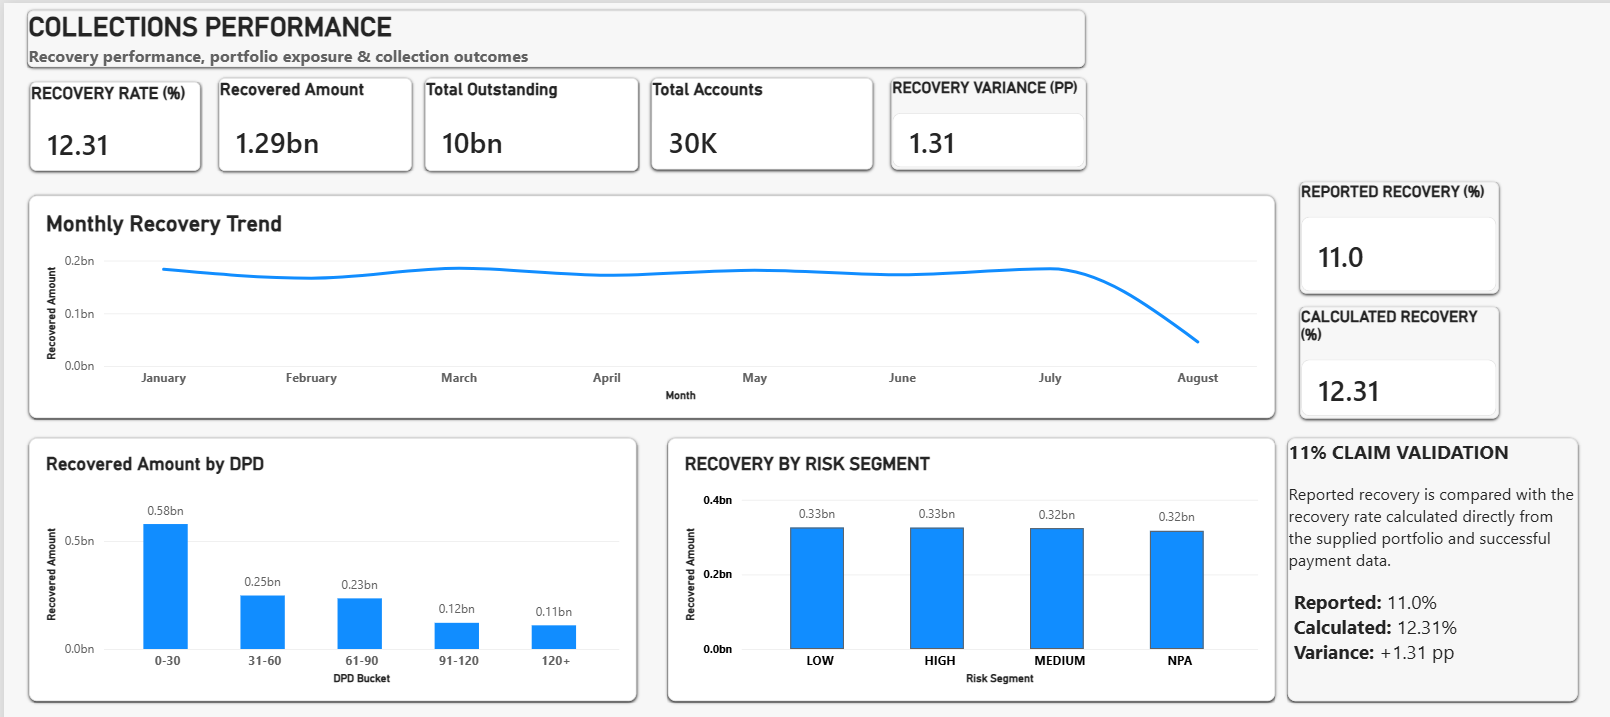

What the dashboard file says about the page in this screenshot:
{"tool":"powerbi","page":{"name":"Executive Overview","canvas":[1920,1080],"ordinal":0},"visuals":[{"type":"cardVisual","title":"RECOVERY RATE (%)","fields":{"Data":["Sum(executive_snapshot.calculated_recovery_rate_pct)"]},"box":[26,78,168,88],"z":0},{"type":"cardVisual","title":"Total Outstanding","fields":{"Data":["Sum(executive_snapshot.total_outstanding)"]},"box":[416,74,210,92],"z":1000},{"type":"cardVisual","title":"Recovered Amount","fields":{"Data":["Sum(executive_snapshot.recovered_amount)"]},"box":[212,74,190,92],"z":2000},{"type":"cardVisual","title":"Total Accounts","fields":{"Data":["Sum(executive_snapshot.total_accounts)"]},"box":[640,74,218,90],"z":3000},{"type":"lineChart","title":"Monthly Recovery Trend","fields":{"Category":["monthly_recovery.month.Variation.Date Hierarchy.Month"],"Y":["Sum(monthly_recovery.recovered_amount)"]},"box":[25,190,1230,220],"z":4000},{"type":"clusteredColumnChart","title":"Recovered Amount by DPD","fields":{"Category":["recovery_by_dpd.dpd_bucket"],"Y":["Sum(recovery_by_dpd.recovered_amount)"]},"box":[25,430,600,260],"z":5000},{"type":"clusteredColumnChart","title":"RECOVERY BY RISK SEGMENT","fields":{"Category":["recovery_by_risk_segment.risk_segment"],"Y":["Sum(recovery_by_risk_segment.recovered_amount)"]},"box":[655,430,600,260],"z":6000},{"type":"cardVisual","title":"REPORTED RECOVERY (%)","fields":{"Data":["Sum(recovery_claim_test.reported_recovery_rate_pct)"]},"box":[1280,176.2,195.7,110],"z":7000},{"type":"cardVisual","title":"CALCULATED RECOVERY (%)","fields":{"Data":["Sum(recovery_claim_test.calculated_recovery_rate_pct)"]},"box":[1280,300,195.7,110],"z":8000},{"type":"cardVisual","title":"RECOVERY VARIANCE (PP)","fields":{"Data":["Sum(recovery_claim_test.difference_percentage_points)"]},"box":[876,74,192,90],"z":9000},{"type":"textbox","box":[1268,430,286,260],"z":10000},{"type":"textbox","title":"COLLECTIONS PERFORMANCE","box":[24,8,1044,56],"z":11000}]}

Visuals, with their boxes on the page's 1920x1080 design canvas (x1, y1, x2, y2). These are canvas units, not pixel positions in the 1610x717 screenshot, which may show the page scaled, cropped or inside an application window:
"RECOVERY RATE (%)" cardVisual: Rect(26, 78, 194, 166)
"Total Outstanding" cardVisual: Rect(416, 74, 626, 166)
"Recovered Amount" cardVisual: Rect(212, 74, 402, 166)
"Total Accounts" cardVisual: Rect(640, 74, 858, 164)
"Monthly Recovery Trend" lineChart: Rect(25, 190, 1255, 410)
"Recovered Amount by DPD" clusteredColumnChart: Rect(25, 430, 625, 690)
"RECOVERY BY RISK SEGMENT" clusteredColumnChart: Rect(655, 430, 1255, 690)
"REPORTED RECOVERY (%)" cardVisual: Rect(1280, 176, 1476, 286)
"CALCULATED RECOVERY (%)" cardVisual: Rect(1280, 300, 1476, 410)
"RECOVERY VARIANCE (PP)" cardVisual: Rect(876, 74, 1068, 164)
textbox: Rect(1268, 430, 1554, 690)
"COLLECTIONS PERFORMANCE" textbox: Rect(24, 8, 1068, 64)
